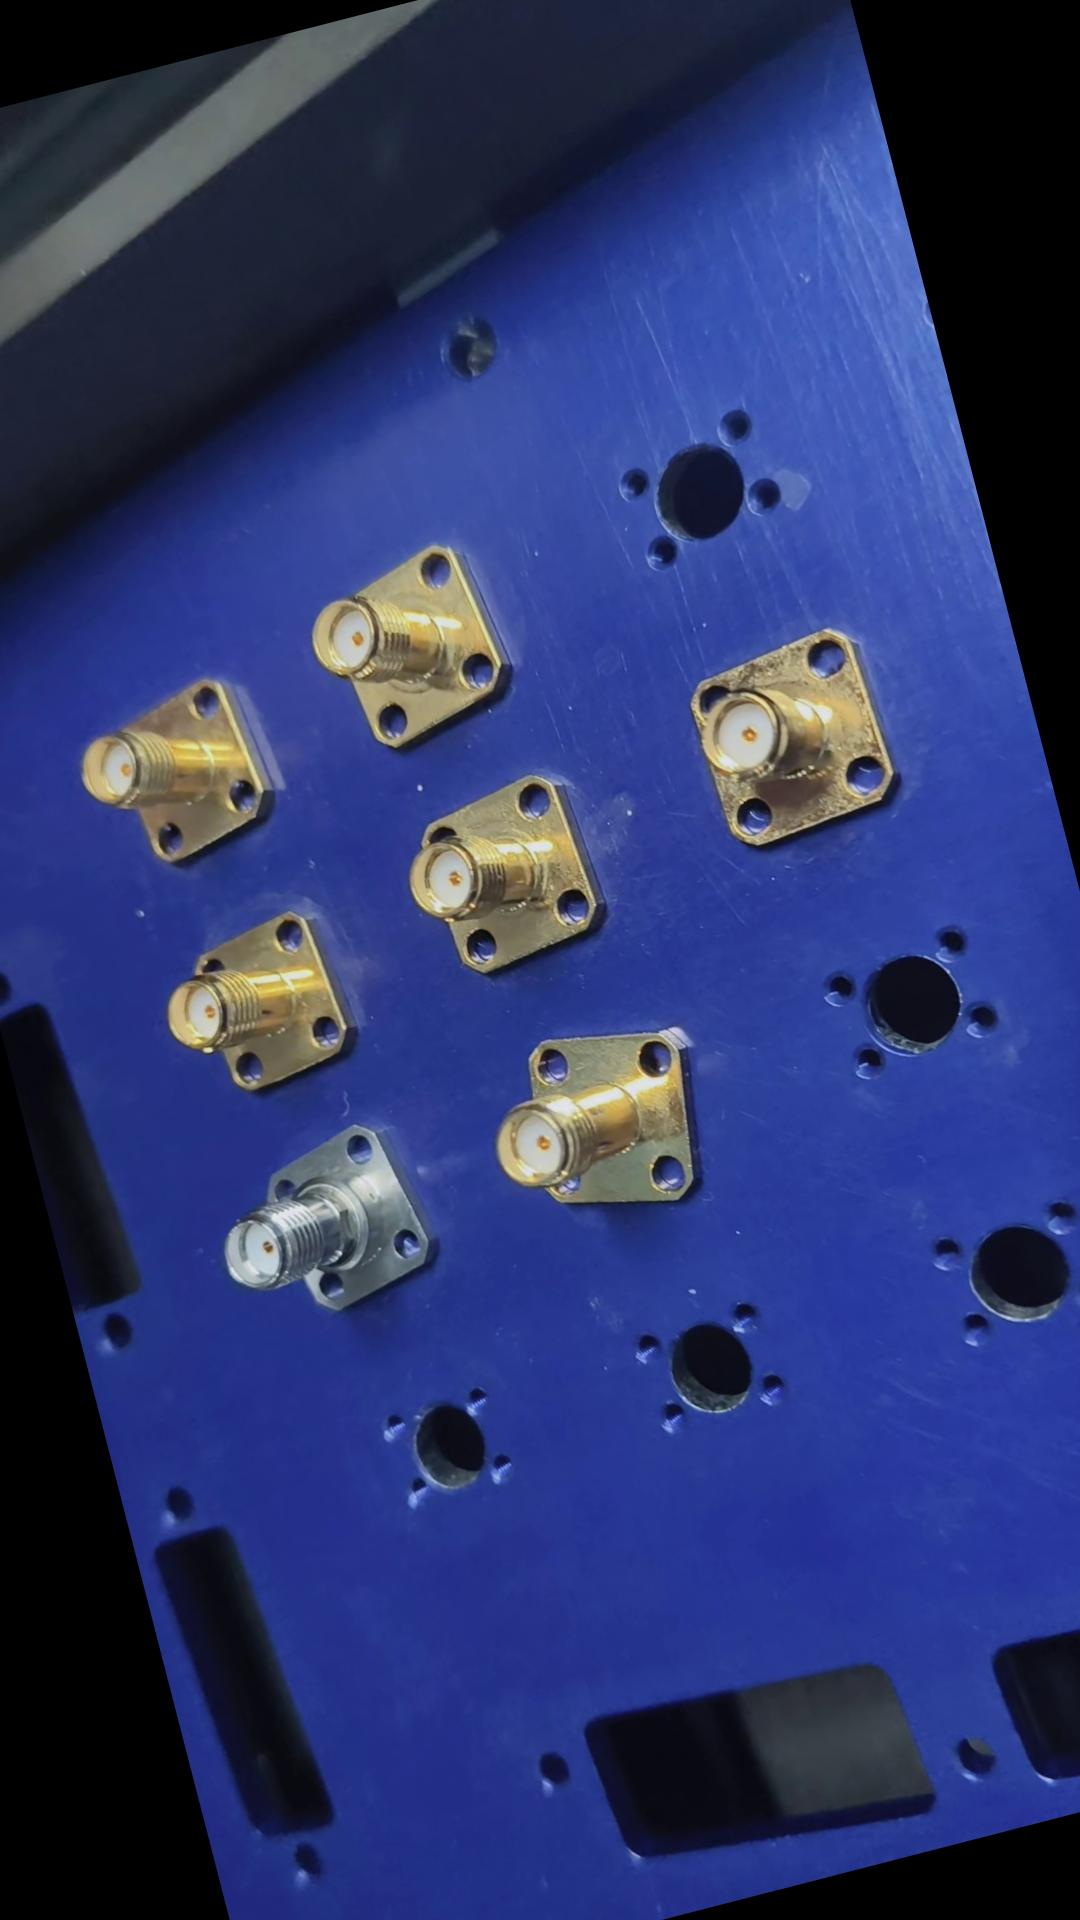SMA: (469, 1000, 733, 1249), (299, 527, 535, 765), (679, 615, 914, 853), (203, 1112, 448, 1329), (390, 760, 624, 988), (69, 669, 295, 886), (152, 902, 372, 1105)
